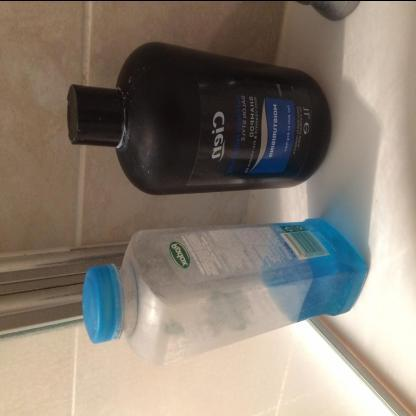plastik: (83, 216, 369, 370), (67, 41, 334, 199)
